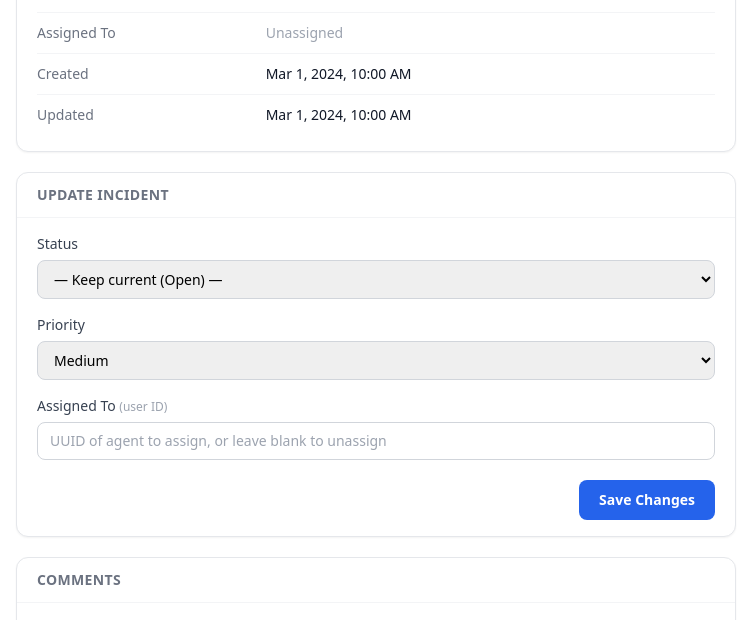
IncidentDetailPage › shows an API error when the backend rejects the update
(page scrolled)
Select "Critical" in the dropdown labelled "Priority". click: coordinates (376, 360)
box: [37, 341, 715, 380]
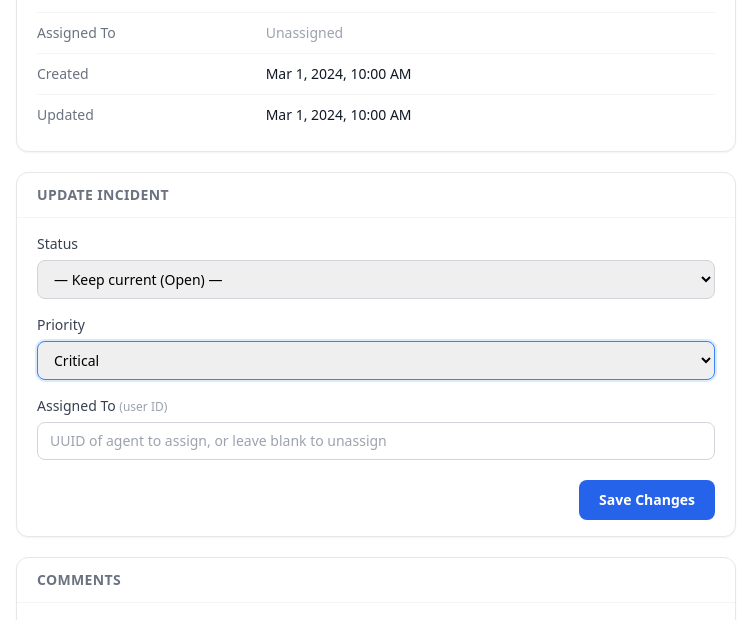
Click the button "Save Changes". click: coordinates (647, 500)
box: [579, 480, 715, 520]
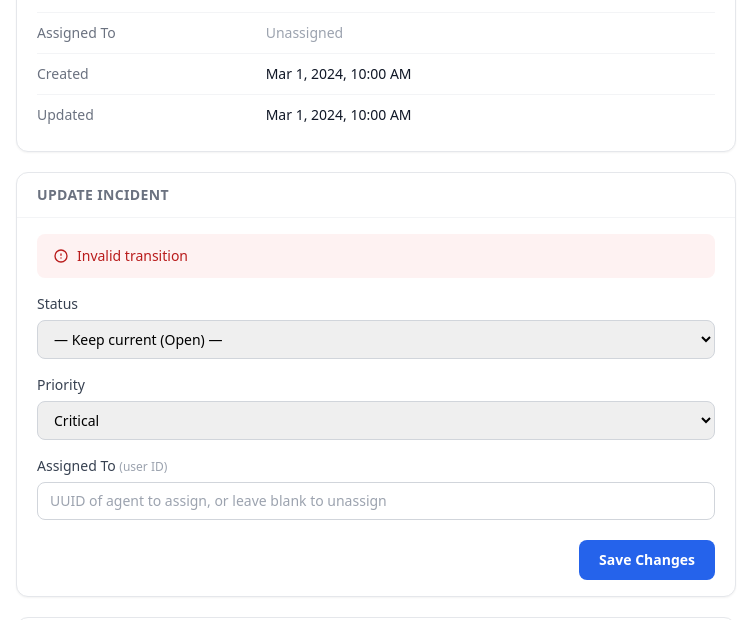
expect the message "Invalid transition" is shown: met, box [37, 234, 715, 278]
expect the message reads "Invalid transition": met, box [77, 246, 188, 265]
